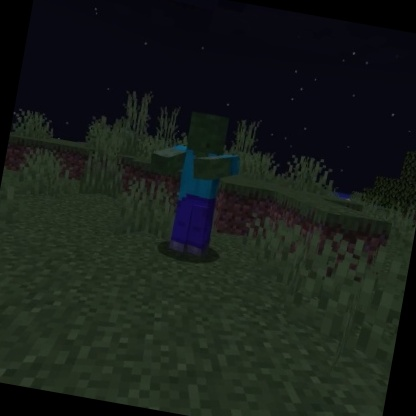zombie: (131, 101, 253, 268)
